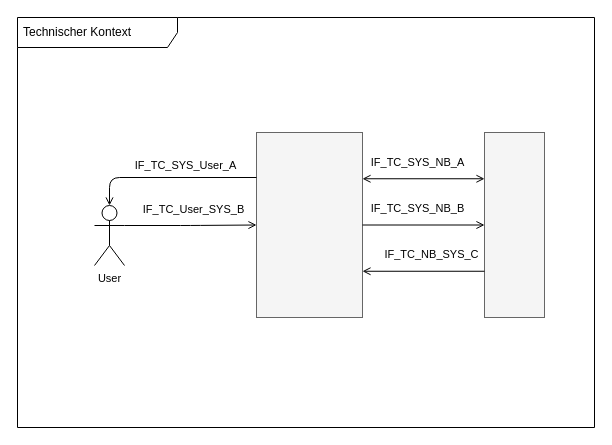
Image size: 612x445. Some labels were removed from this diagram. Each missing label, with the box of its shape:
Nachbar: (484, 132, 544, 318)
System: (256, 132, 362, 318)
